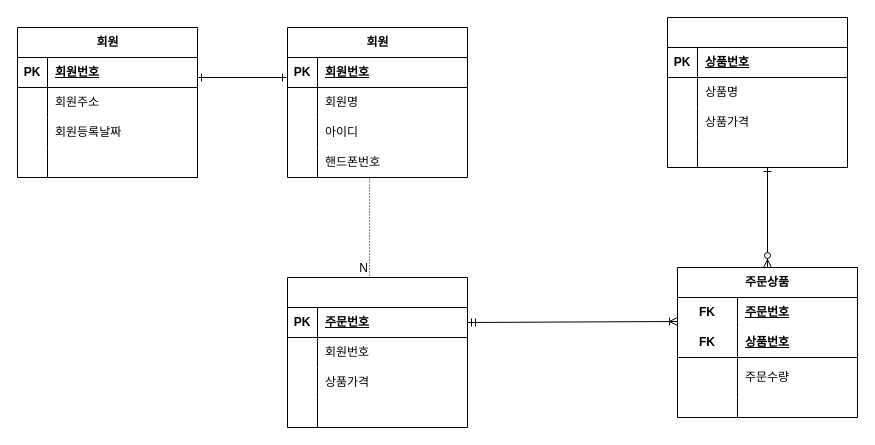
Image size: 875x445. Some labels were removed from this diagram. The box of each missing label's shape, as (x1, y1, x2, y2) in pixels:
상품: (666, 16, 848, 168)
주문: (286, 276, 468, 428)
